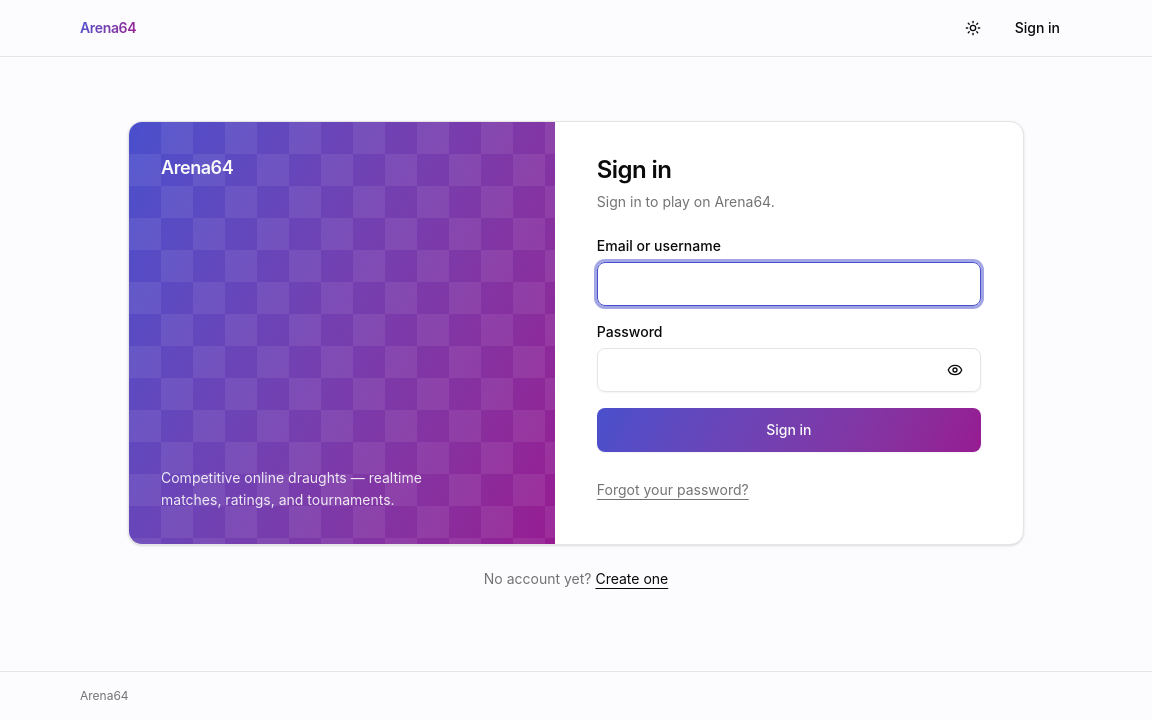
Test: a rejected sign-in — A64-031.E3 › says the credentials are wrong, never that the session is invalid
Step 1. Type "player@example.com" into the field labelled "Email or username" → (789, 284), box [597, 262, 981, 306]
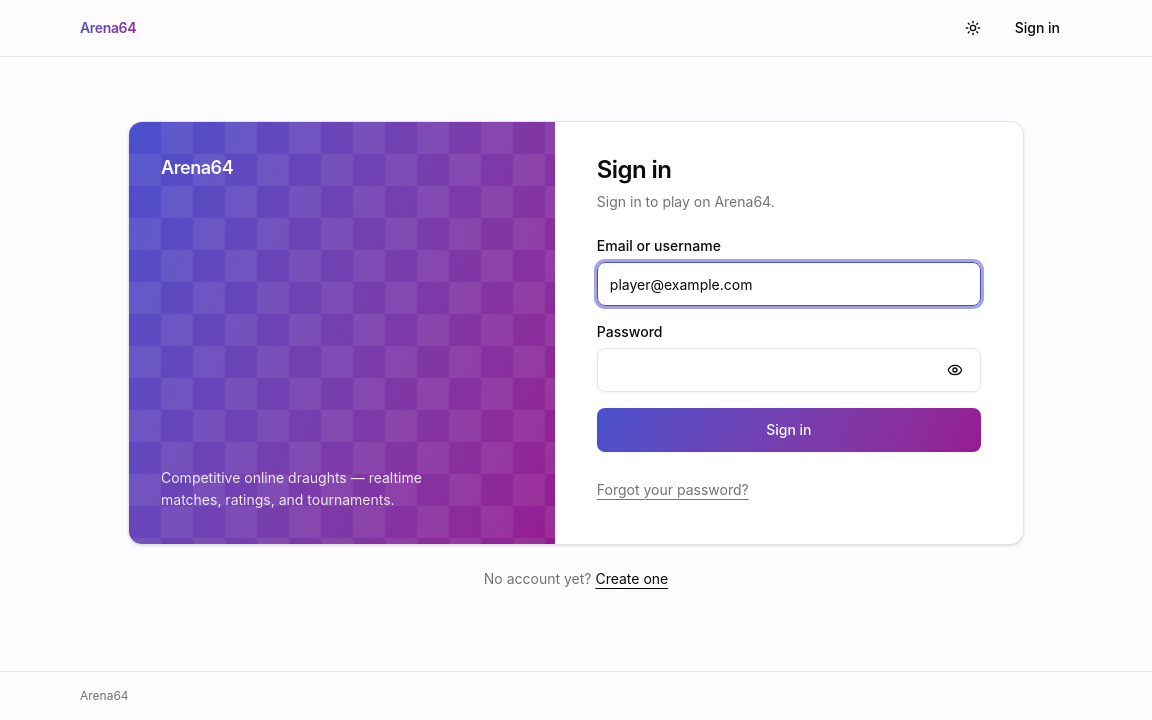
Step 2. Type "x" into the password field labelled "Password" → (789, 370), box [597, 348, 981, 392]
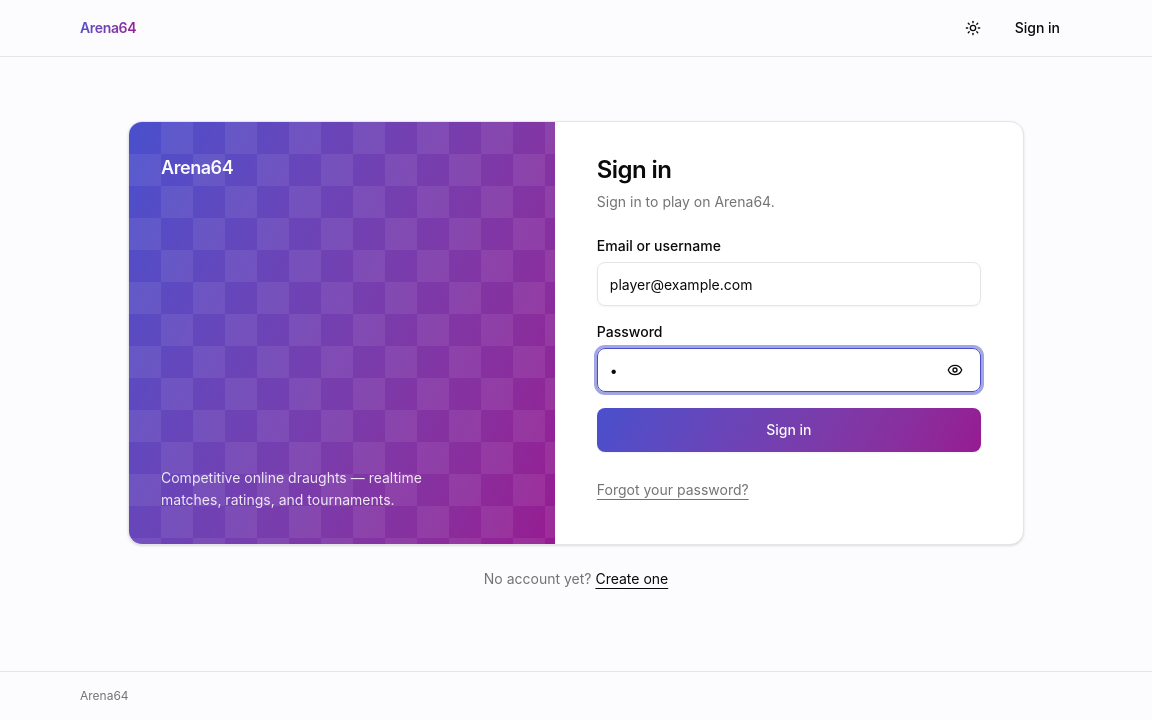
Step 3. Click the button "Sign in" → (789, 430), box [597, 408, 981, 452]
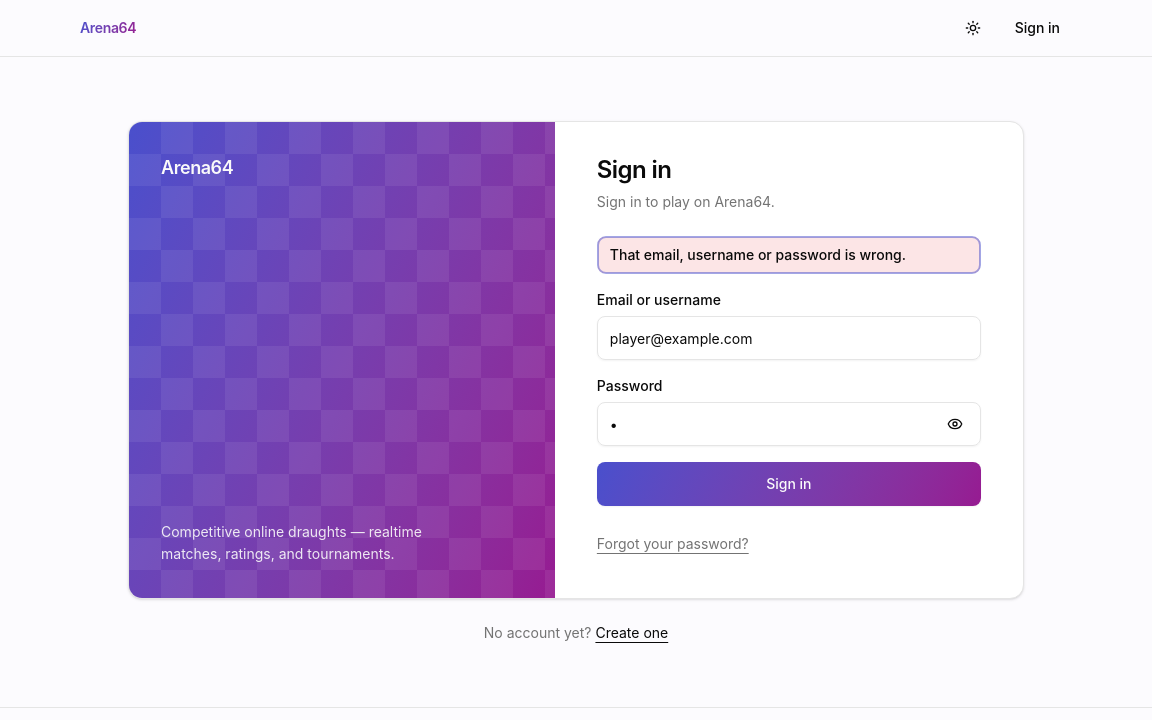
Expected: the message reads "That email, username or password is wrong.", [610, 246, 906, 263]
